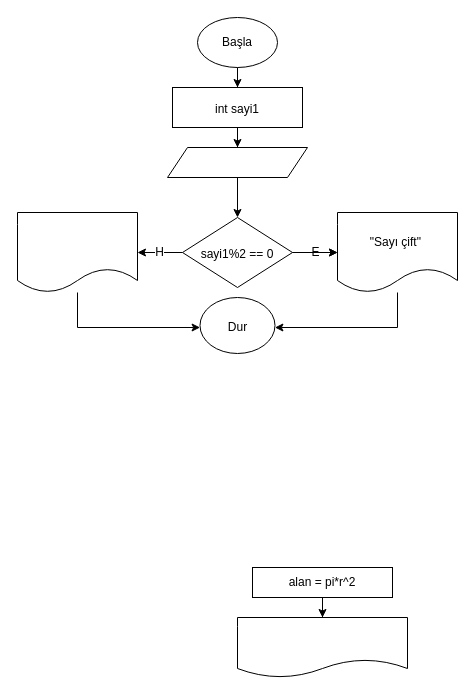
This 475x695 diagram has some shape labels left out. Each missing label, with the centre of its shape:
" Sayı tek": the point at 77,252
"Alan : ", alan: the point at 322,647
"Sayı Girin:", sayi1: the point at 237,162
